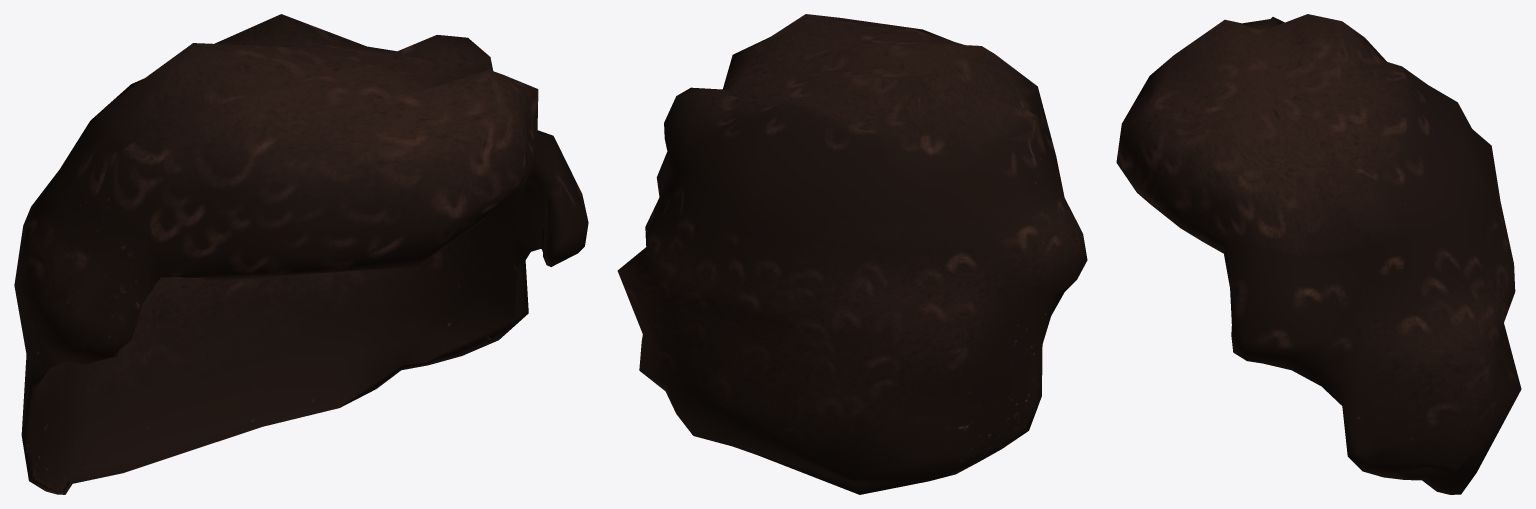
The model's file is hair2.dae.
3 views of the same model, side by side, from view 1: azimuth 30°, elevation 25°; view 2: azimuth 150°, elevation 25°; view 3: azimuth 270°, elevation 25° (orthographic). The views are drawn at different scales.
Visible parts, largest first — view 1: hair3; view 2: hair3; view 3: hair3.
Boxes of the visible parts, x1=… form: hair3: x1=14, y1=14, x2=588, y2=494; hair3: x1=617, y1=14, x2=1087, y2=494; hair3: x1=1116, y1=14, x2=1521, y2=494.
Size of the model in its own units: 3.56 by 3.1 by 2.81.
